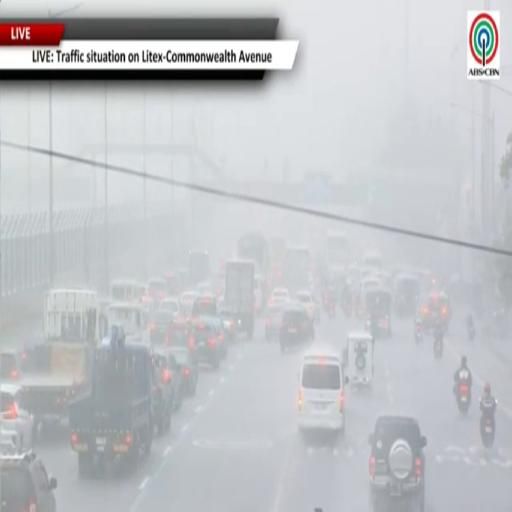car: (369, 415, 426, 511), (298, 346, 347, 434), (2, 453, 56, 511), (0, 383, 34, 452), (153, 350, 175, 435), (279, 302, 314, 353), (155, 347, 182, 410), (169, 347, 198, 396), (192, 322, 221, 370), (197, 315, 227, 358), (150, 310, 175, 345), (296, 291, 320, 323), (265, 304, 282, 340), (192, 295, 218, 317), (147, 278, 167, 303), (180, 291, 199, 317), (159, 297, 179, 318), (270, 287, 290, 303), (197, 282, 213, 295)
motorcycle: (481, 410, 495, 449), (456, 380, 470, 414), (434, 339, 443, 359), (327, 298, 335, 318), (415, 325, 423, 344), (468, 325, 475, 341)
truck: (69, 328, 154, 476), (13, 290, 98, 430), (224, 261, 254, 339), (237, 232, 269, 278), (283, 247, 309, 295), (326, 230, 352, 272), (268, 237, 287, 287), (189, 251, 209, 285), (268, 237, 287, 265)
